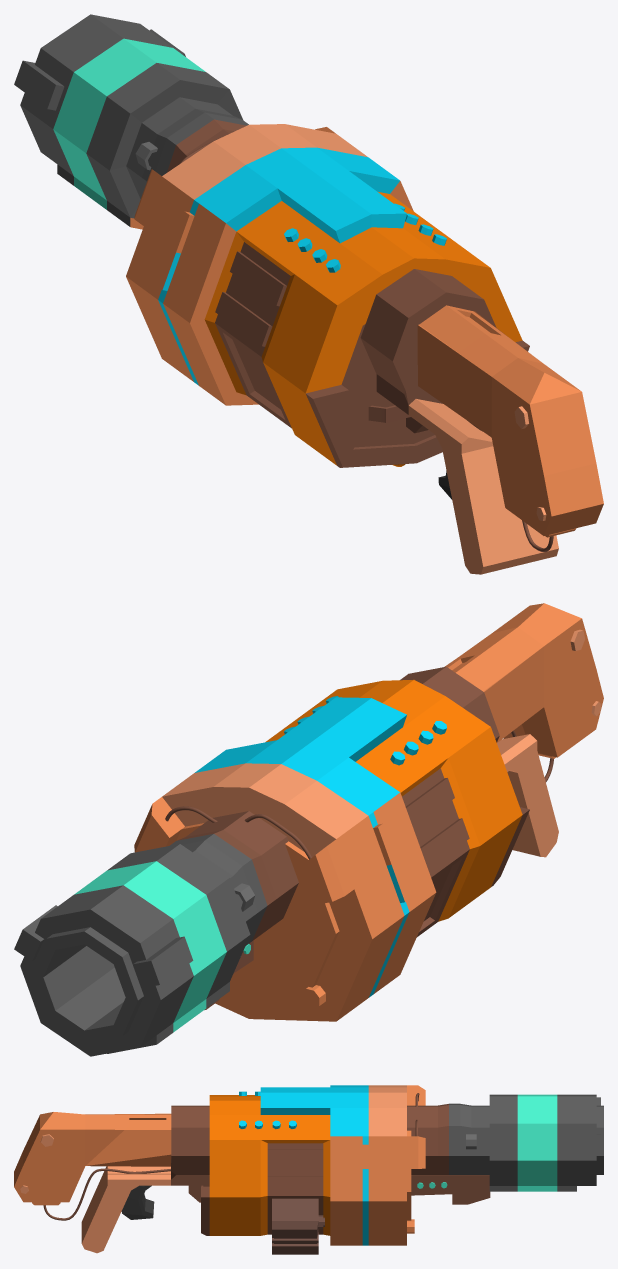
Rendered from grenadelauncher.fbx.
The picture shows the model from 3 angles, top to bottom: view 1: azimuth 30°, elevation 25°; view 2: azimuth 150°, elevation 25°; view 3: azimuth 270°, elevation 25°; orthographic projection. The views are drawn at different scales.
Parts seen in each view (by area): view 1: Circle.002, Circle, Cube.004, Cylinder.026; view 2: Circle.002, Circle, Cube.004, Cylinder.026, BezierCurve.007; view 3: Circle, Circle.002, Cylinder.003, Cube.004, BezierCurve, Cylinder.026.
Boxes of the visible parts, x1,y1,x2,y2 form: Circle.002: (126,124,529,467); Circle: (20,14,603,574); Cube.004: (14,29,185,110); Cylinder.026: (284,203,446,272); Circle.002: (134,679,529,1021); Circle: (20,603,603,1056); Cube.004: (14,905,193,988); Cylinder.026: (284,696,446,765); BezierCurve.007: (165,806,312,859); Circle: (14,1094,603,1253); Circle.002: (201,1085,425,1254); Cylinder.003: (121,1185,154,1219); Cube.004: (561,1097,600,1150); BezierCurve: (43,1168,170,1220); Cylinder.026: (239,1091,296,1129).
Bounding box in the file's own units: 625 × 551 × 1971.
